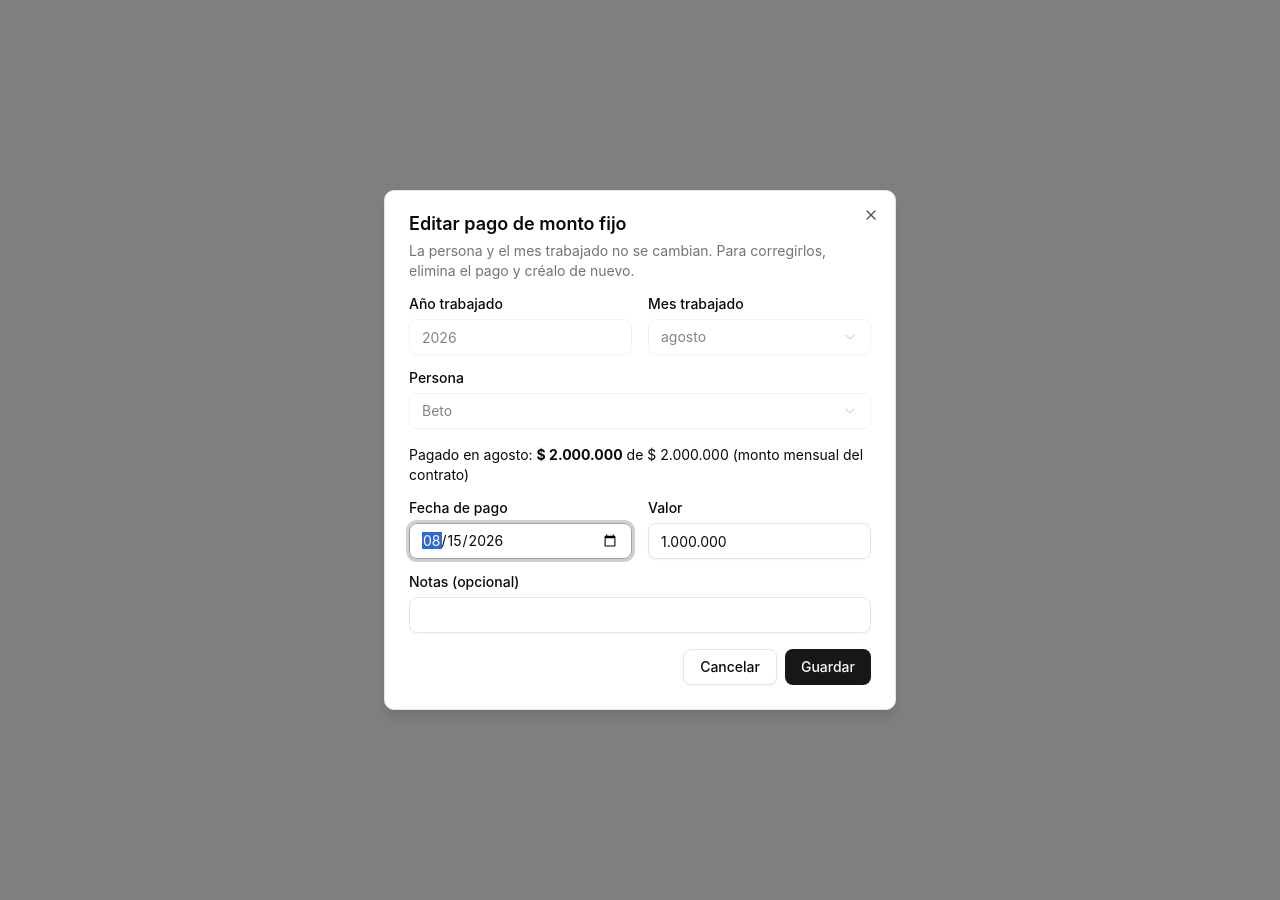
Test case: FixedPaymentFormDialog (F16 CA-22) › con el valor vacío, el resumen del mes no se rompe
Expected: the element with test id "month-summary" is shown, [409,445,871,485]
Clear the field labelled "Valor" at point(760, 541), box [648,523,871,559]
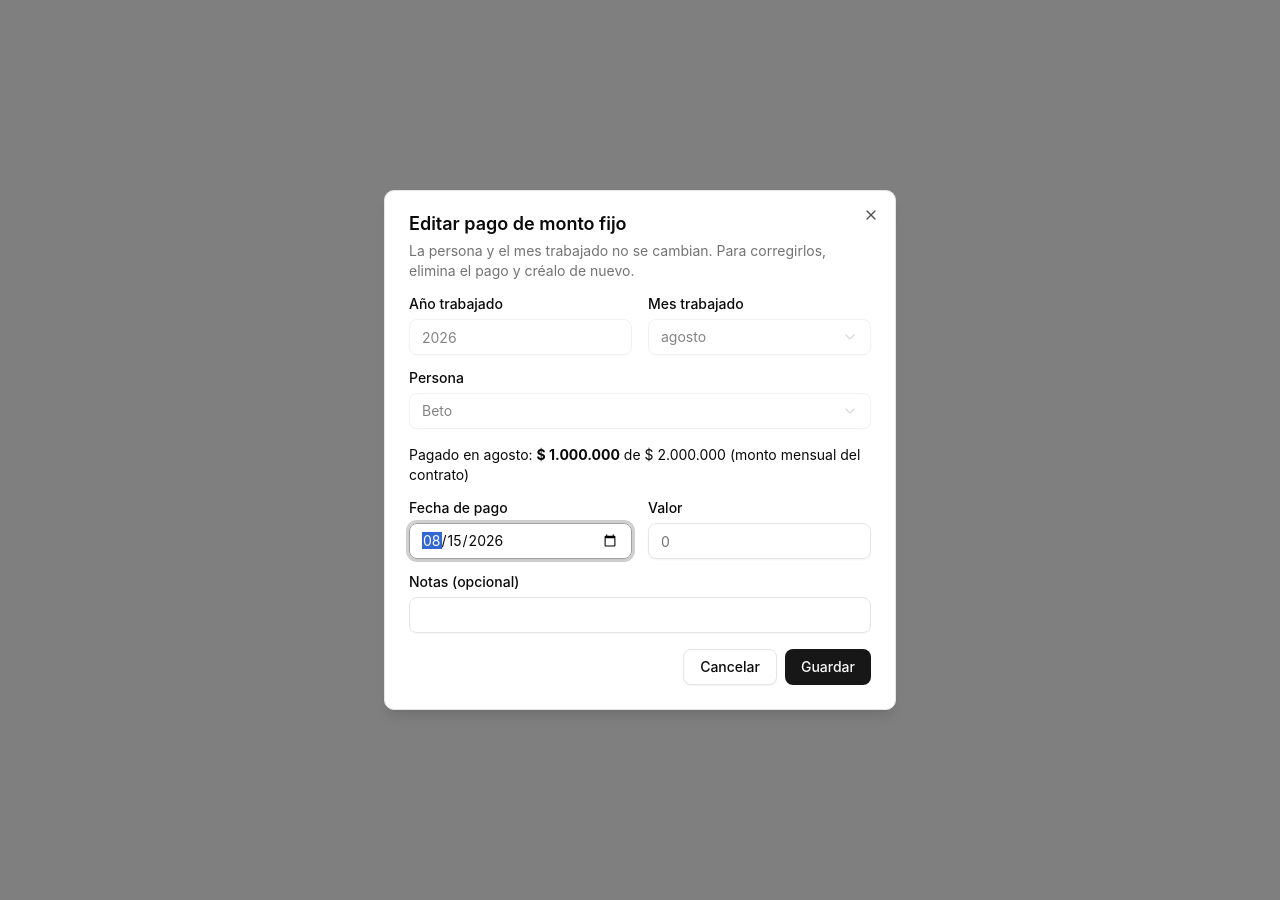
Now the element with test id "month-summary" reads "Pagado en agosto: $ 1.000.000 de $ 2.000.000 (monto mensual del contrato)", box [409,445,871,485]
